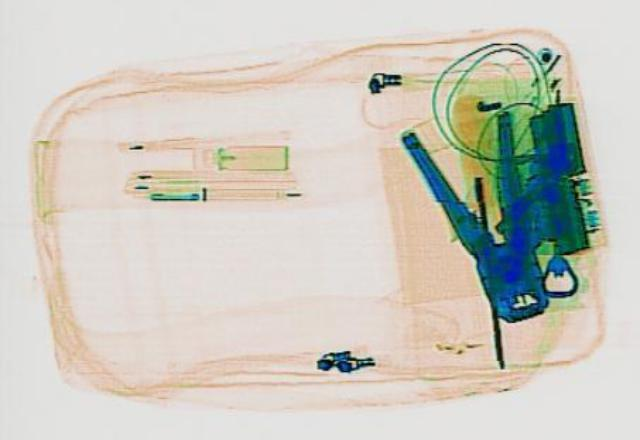Pliers: (396, 108, 578, 327)
